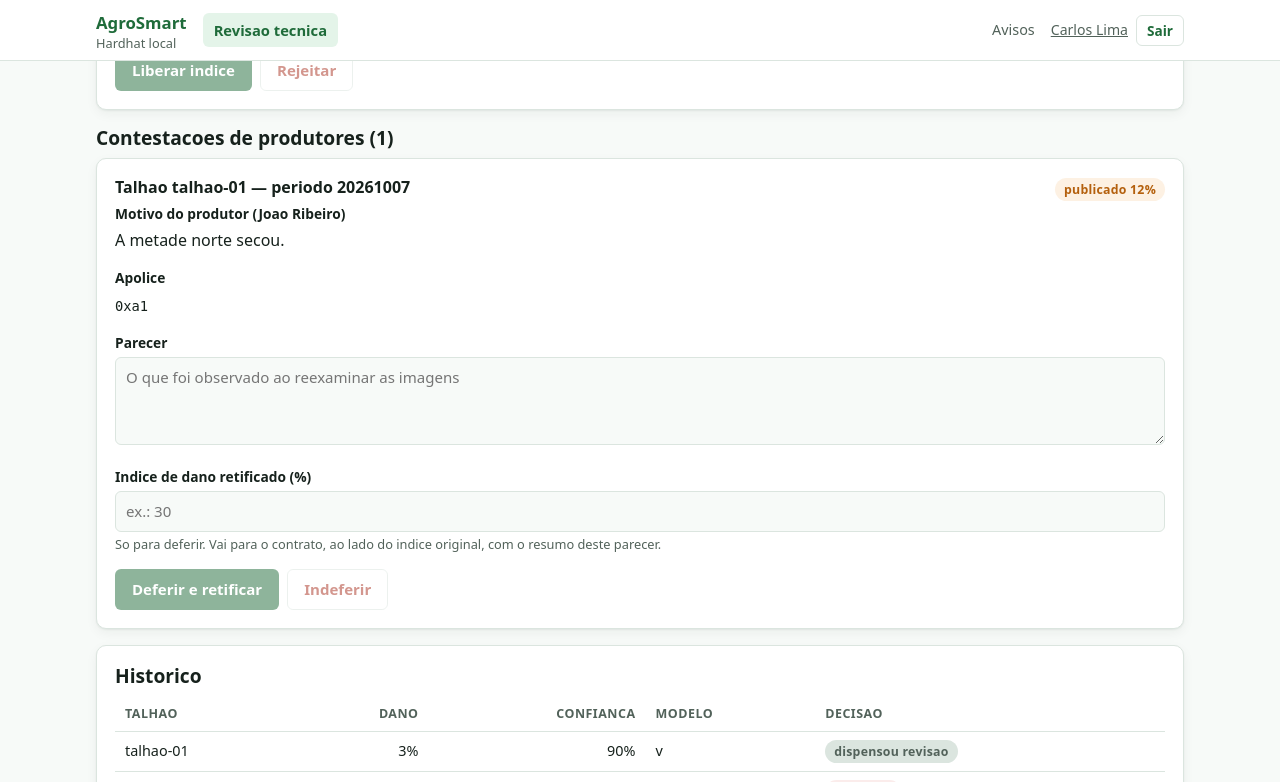
Test: revisao tecnica do perito (RF17, RF28) › defere a contestacao com o indice retificado em pontos-base
This screenshot has width=1280, height=782.
(page scrolled)
Type "Reexame confirma 30%." into the text box labelled "Parecer" at (640, 401), box [115,357,1165,445]
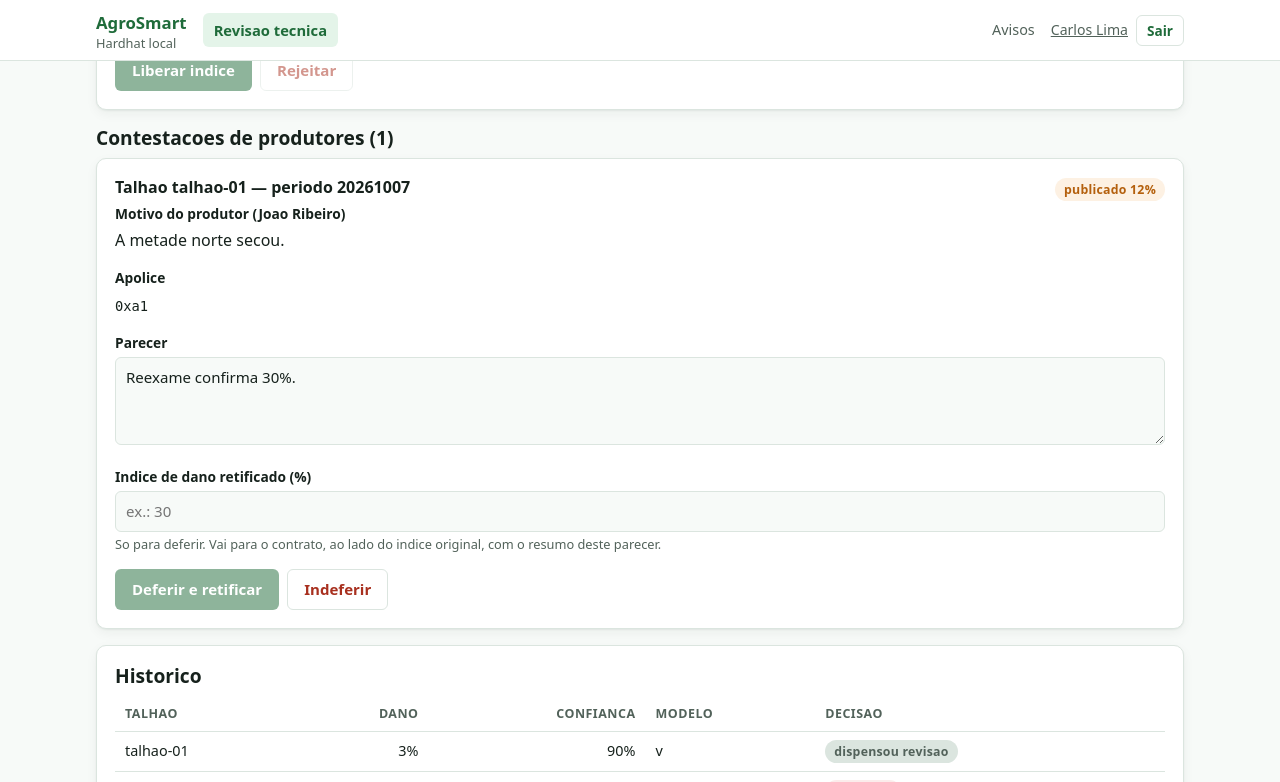
Type "30,5" into the field labelled "Indice de dano retificado (%)" at (640, 512), box [115,491,1165,532]
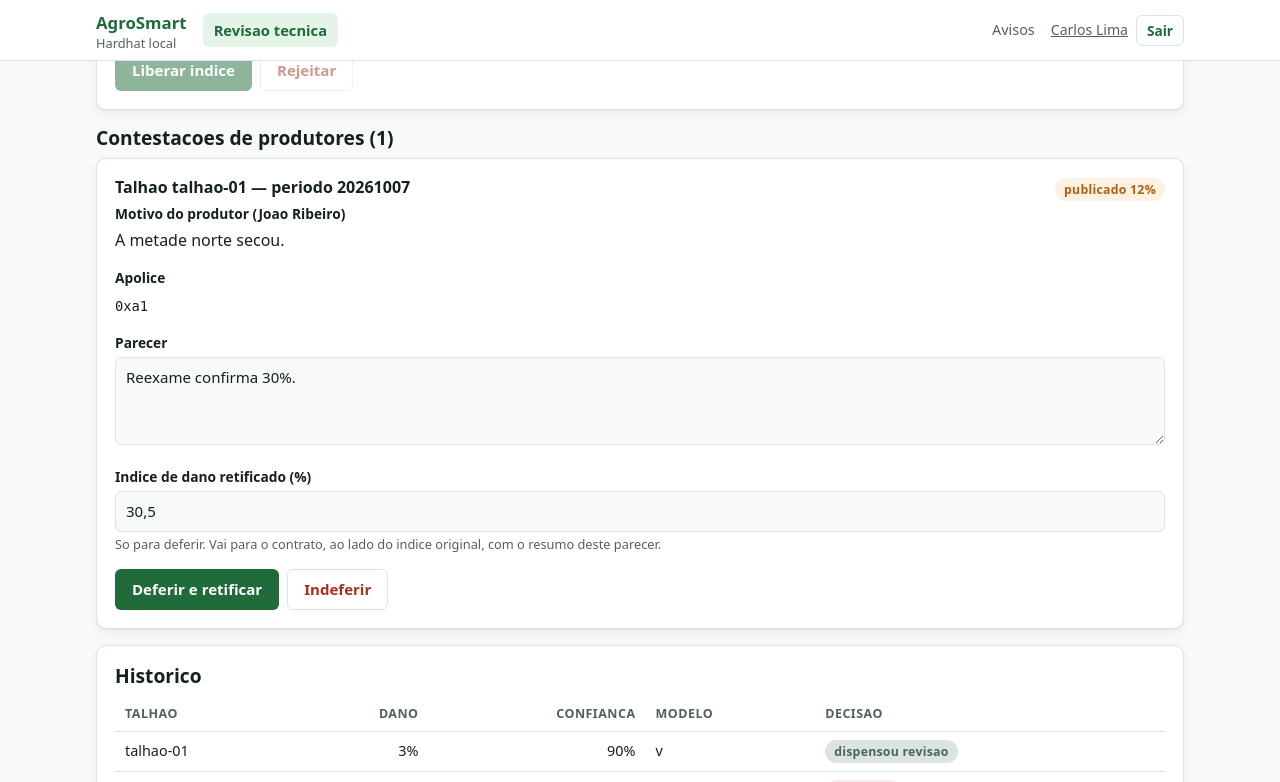
Click the button "Deferir e retificar" at (197, 590), box [115,569,279,610]
(page scrolled)
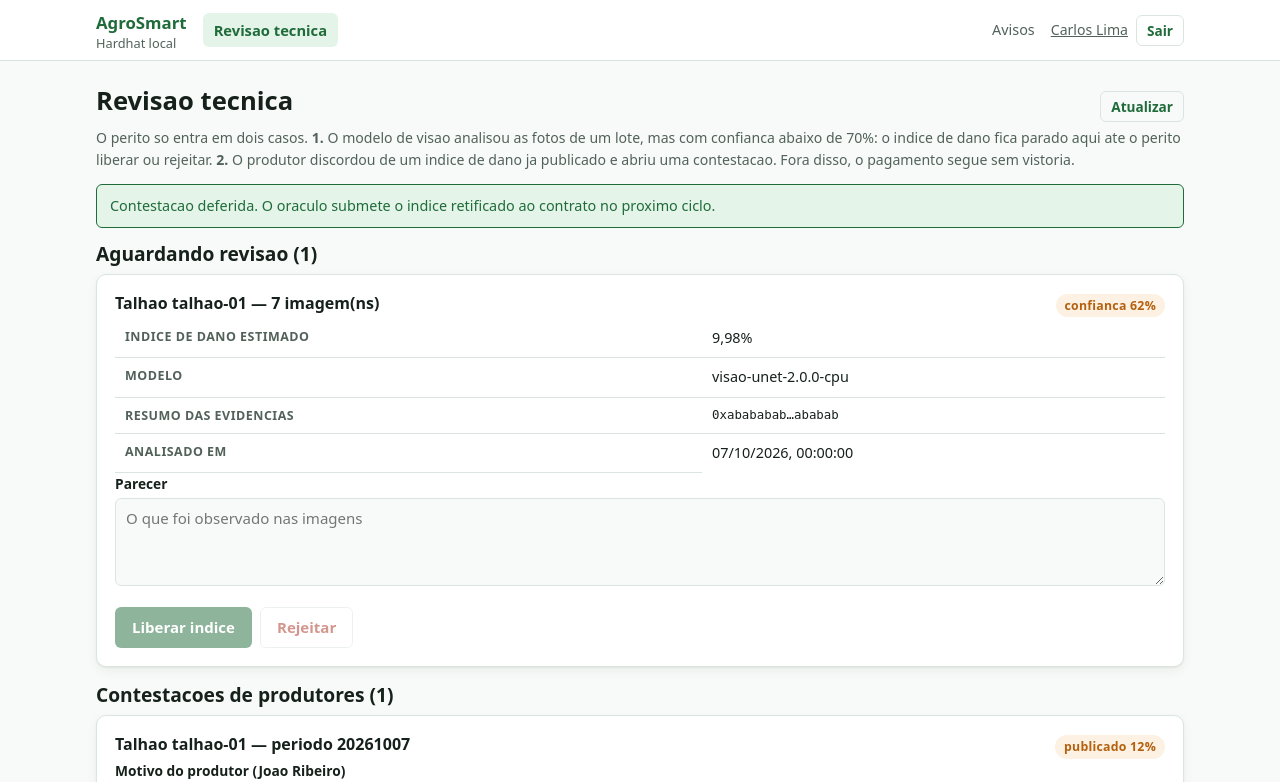
Expected: the text "Contestacao deferida" is shown, [110,196,715,215]
